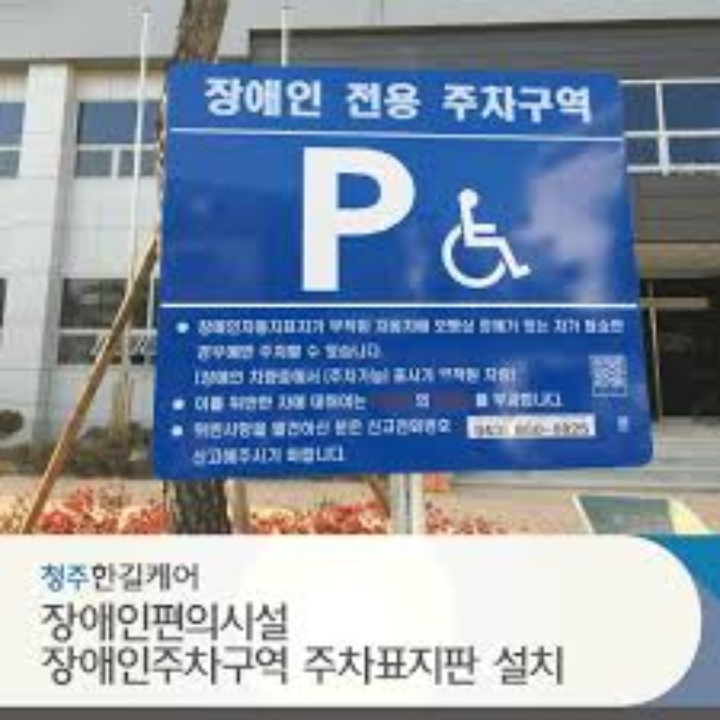parking: (290, 140, 425, 296)
